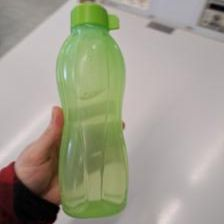bottle: (54, 3, 130, 218)
